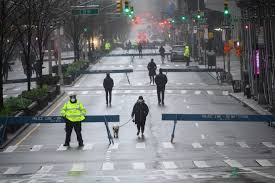mask: (69, 92, 77, 102), (136, 95, 144, 103)
